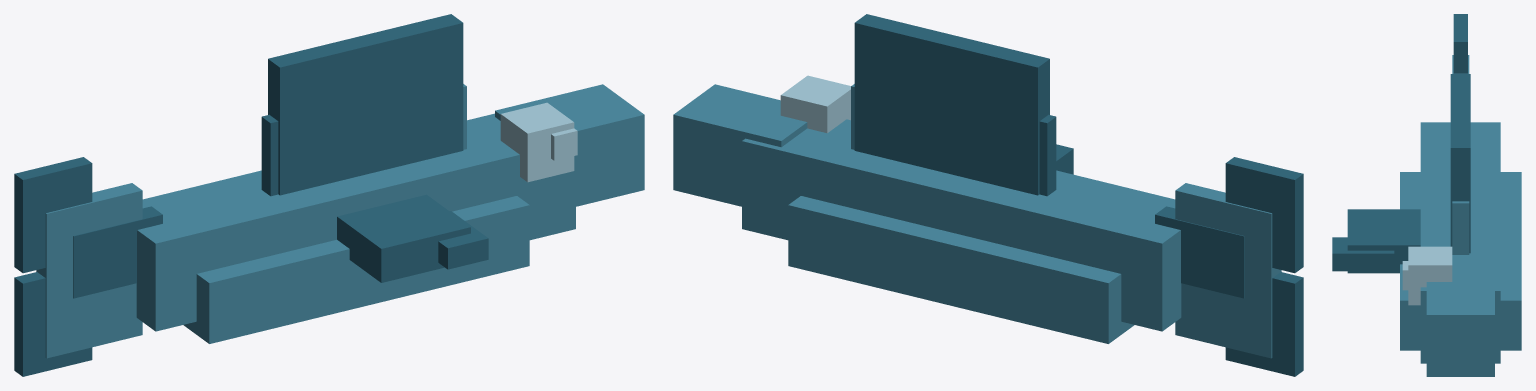
The model's file is fish_sail_needlefish.glb.
3 renders of one model, left to right at view 1: azimuth 30°, elevation 25°; view 2: azimuth 150°, elevation 25°; view 3: azimuth 270°, elevation 25°, orthographic. The views are drawn at different scales.
Visible parts, largest first — view 1: FishArt_body, FishArt_dorsal, FishArt_tail, FishArt_pectoral, FishArt_eye; view 2: FishArt_body, FishArt_dorsal, FishArt_tail, FishArt_eye; view 3: FishArt_body, FishArt_pectoral, FishArt_dorsal, FishArt_eye, FishArt_tail.
Boxes of the visible parts, x1,y1,x2,y2 form: FishArt_body: [36, 84, 644, 358]; FishArt_dorsal: [261, 14, 463, 196]; FishArt_tail: [14, 157, 162, 376]; FishArt_pectoral: [337, 194, 488, 282]; FishArt_eye: [500, 102, 577, 182]; FishArt_body: [673, 84, 1281, 358]; FishArt_dorsal: [854, 14, 1056, 196]; FishArt_tail: [1155, 157, 1303, 376]; FishArt_eye: [780, 75, 850, 133]; FishArt_body: [1400, 55, 1521, 376]; FishArt_pectoral: [1332, 209, 1420, 273]; FishArt_dorsal: [1450, 74, 1470, 253]; FishArt_eye: [1402, 246, 1452, 305]; FishArt_tail: [1453, 14, 1467, 73].
Size of the model in its own units: 0.3117 by 0.1222 by 0.1026.
